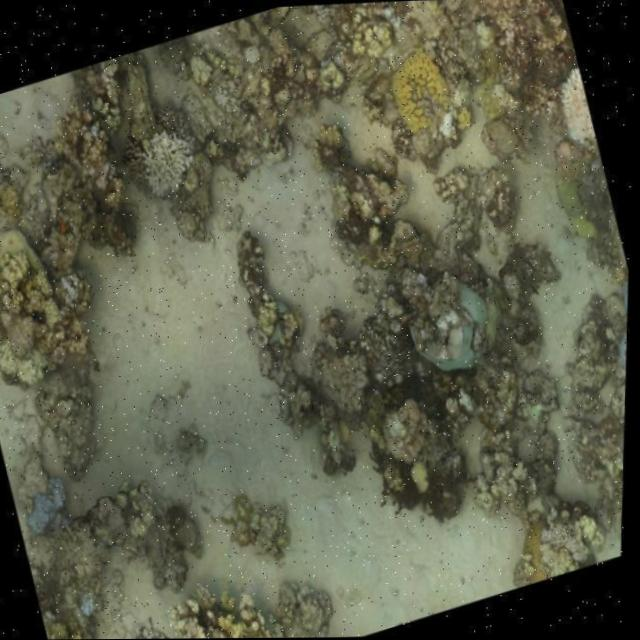Bleached Coral: (111, 104, 214, 214)
